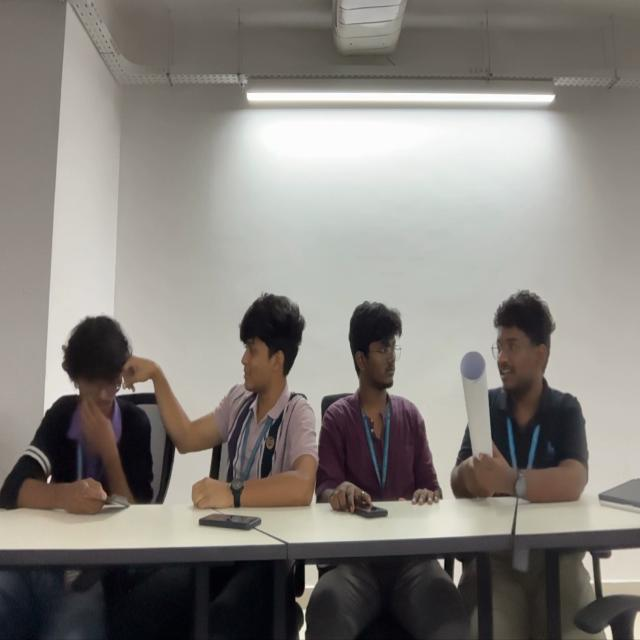Isolated: (468, 298, 581, 490), (335, 302, 426, 493)
socializing: (0, 281, 316, 519)
